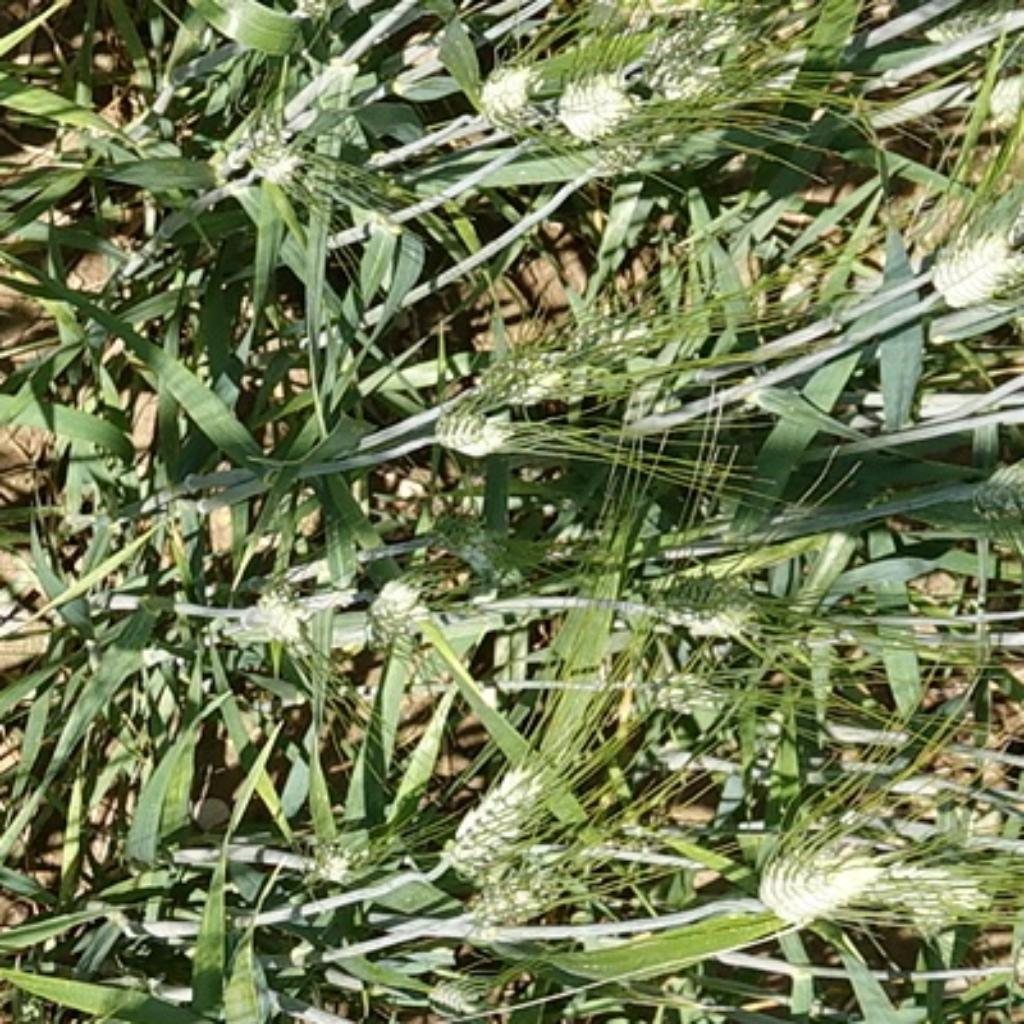0-0: (619, 7, 780, 113), (435, 744, 558, 875), (460, 314, 619, 414), (756, 850, 899, 933), (629, 547, 765, 632), (880, 850, 1015, 934), (412, 488, 529, 578), (606, 647, 727, 727), (455, 844, 568, 924), (927, 218, 1024, 308), (227, 583, 325, 657), (215, 113, 310, 186), (546, 71, 633, 146), (291, 820, 390, 883), (426, 399, 518, 461), (366, 573, 438, 652), (911, 2, 1024, 51), (468, 54, 545, 125), (965, 450, 1024, 537), (977, 74, 1024, 148), (424, 967, 479, 1013)
